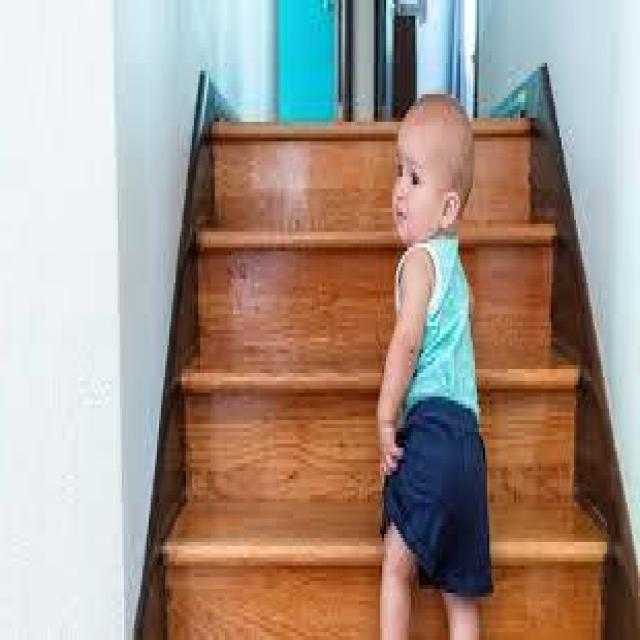child: (366, 82, 500, 640)
